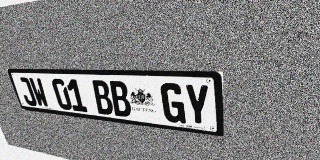0: (50, 78, 73, 111)
1: (65, 79, 88, 112)
B: (108, 81, 133, 118), (91, 80, 115, 115)
G: (160, 83, 186, 124)
J: (17, 77, 38, 106)
W: (28, 78, 50, 108)
Y: (184, 84, 210, 127)
